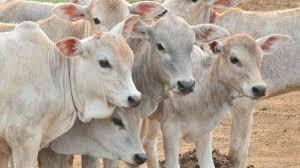cow: (0, 16, 147, 167), (146, 35, 293, 168), (125, 15, 228, 97), (81, 108, 147, 168)
